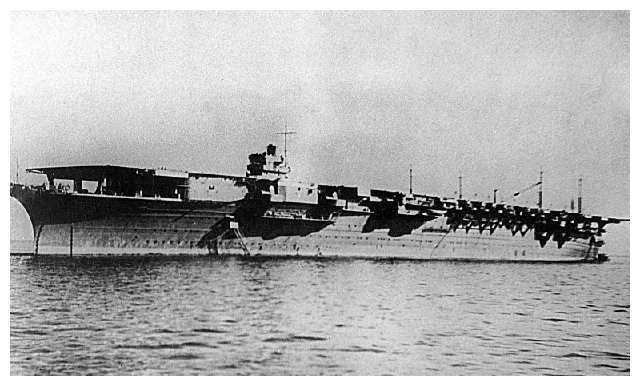Cargoship: (17, 132, 623, 268)
